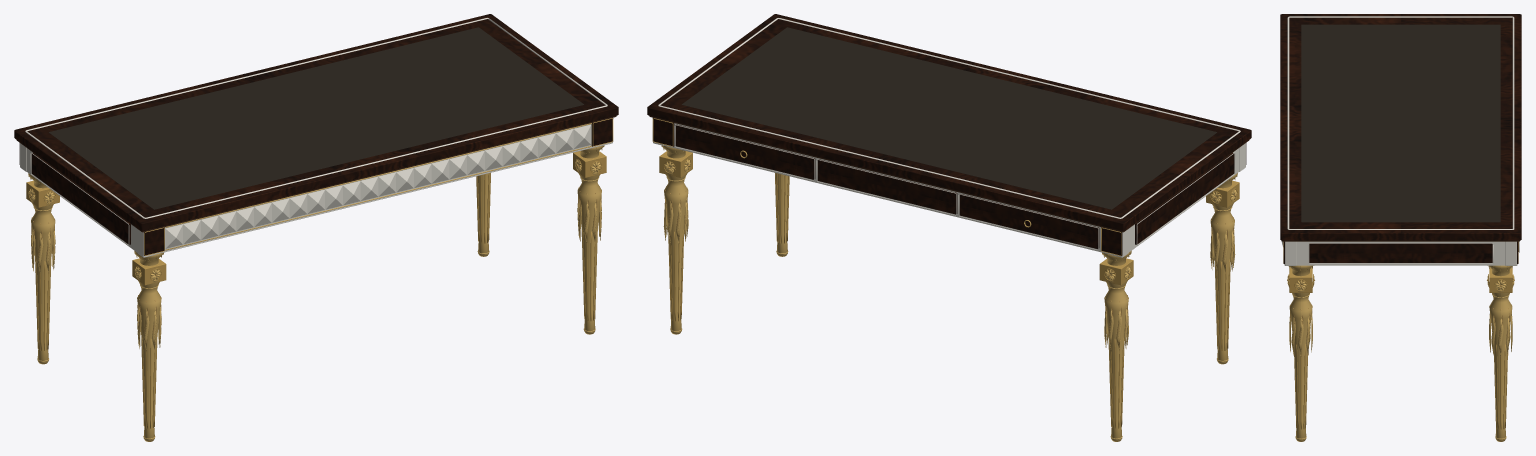
3 renders of one model, left to right at view 1: azimuth 30°, elevation 25°; view 2: azimuth 150°, elevation 25°; view 3: azimuth 270°, elevation 25°, orthographic. The views are drawn at different scales.
Parts seen in each view (by area): view 1: Belgravia writing desk | office-33 web batch; view 2: Belgravia writing desk | office-33 web batch; view 3: Belgravia writing desk | office-33 web batch.
Boxes of the visible parts, bbox=[...] form: Belgravia writing desk | office-33 web batch: bbox=[14, 14, 618, 441]; Belgravia writing desk | office-33 web batch: bbox=[647, 14, 1251, 441]; Belgravia writing desk | office-33 web batch: bbox=[1280, 14, 1521, 441].
Size of the model in its own units: 1.72 by 0.79 by 0.8.
Materials: 8 (1 with a texture image).
